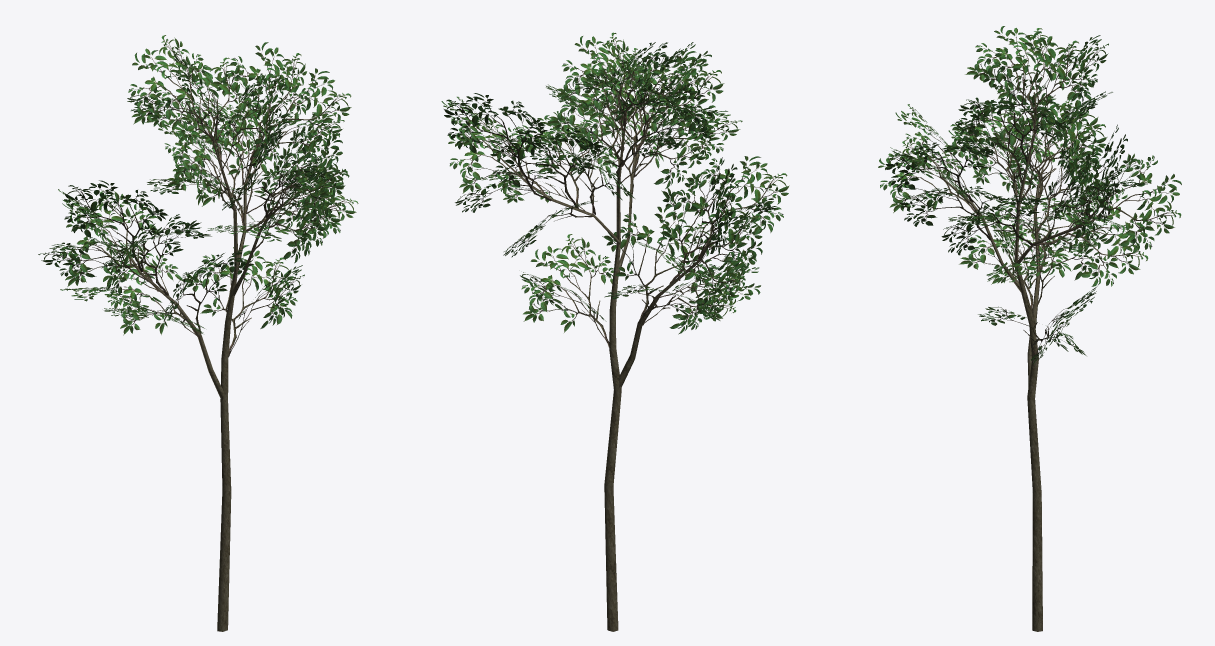
The model's file is MK4_Ficus2.DAE.
3 views of the same model, side by side, from view 1: azimuth 30°, elevation 25°; view 2: azimuth 150°, elevation 25°; view 3: azimuth 270°, elevation 25° (orthographic). The views are drawn at different scales.
Visible parts, largest first — view 1: MK4_Ficus2; view 2: MK4_Ficus2; view 3: MK4_Ficus2.
Boxes of the visible parts, bbox=[...] form: MK4_Ficus2: bbox=[38, 35, 358, 631]; MK4_Ficus2: bbox=[441, 32, 789, 631]; MK4_Ficus2: bbox=[878, 26, 1181, 631].
Size of what is drawn, in the model's own units: 14.11 by 13.29 by 24.06.
